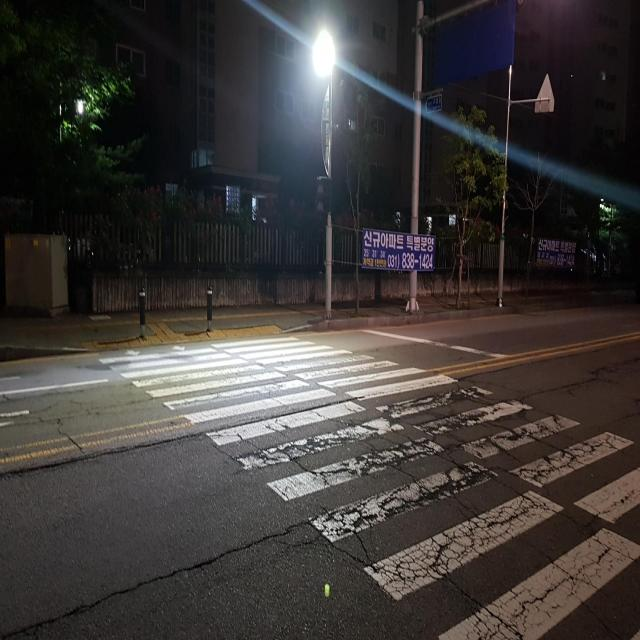횡단보도: (96, 336, 640, 640)
